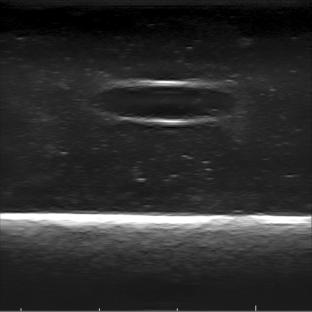vessel: (91, 80, 237, 125)
